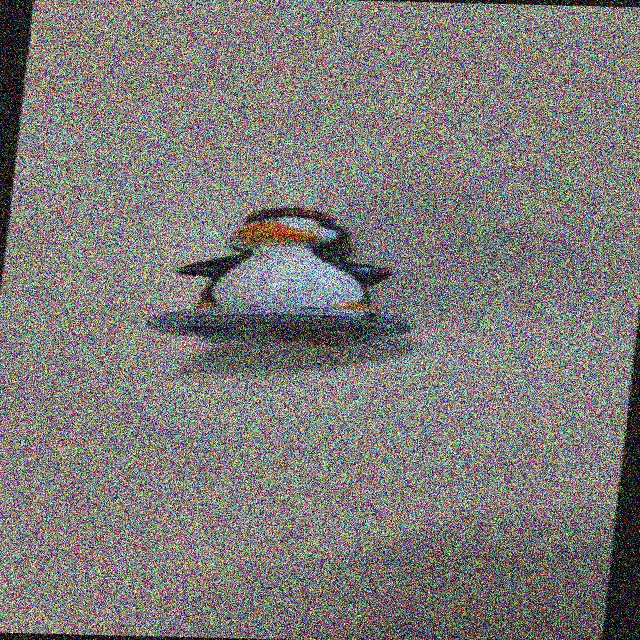Penguin: (157, 200, 418, 348)
